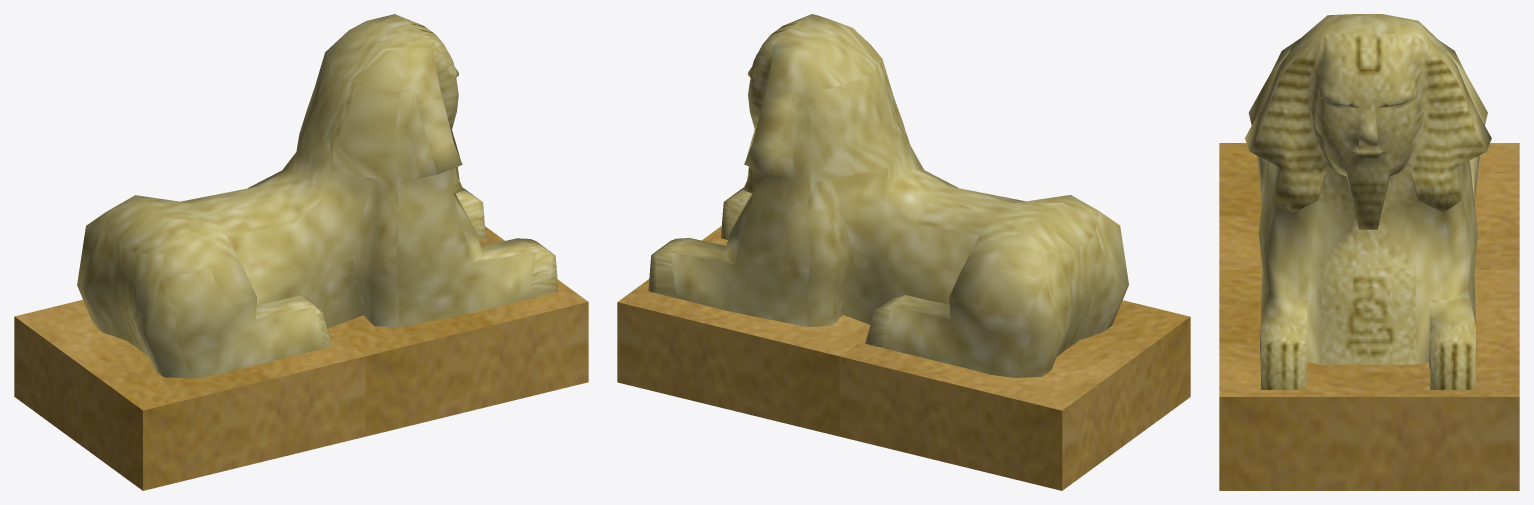
Rendered from Sphinx.fbx.
The picture shows the model from 3 angles, left to right: view 1: azimuth 30°, elevation 25°; view 2: azimuth 150°, elevation 25°; view 3: azimuth 270°, elevation 25°; orthographic projection. The views are drawn at different scales.
Parts seen in each view (by area): view 1: sphinx; view 2: sphinx; view 3: sphinx.
Part boxes in pixels (bbox=[...]): sphinx: bbox=[14, 14, 588, 490]; sphinx: bbox=[617, 14, 1190, 490]; sphinx: bbox=[1219, 14, 1519, 490].
Bounding box in the file's own units: 2 × 1.45 × 1.
